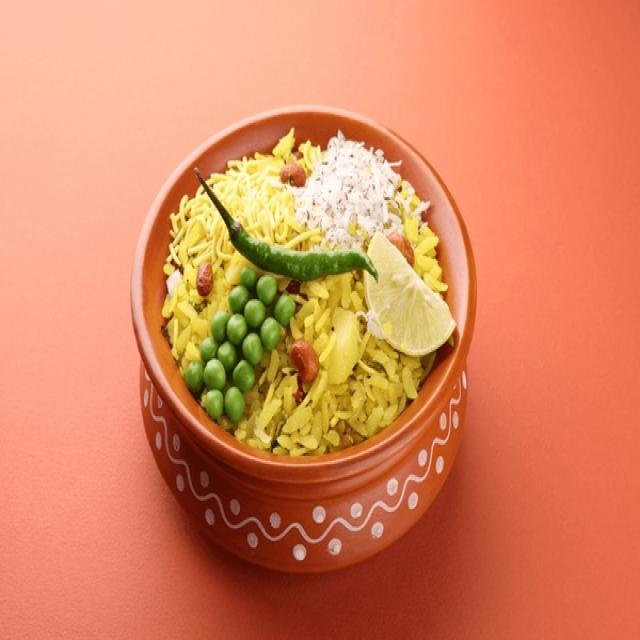UPMA: (161, 130, 452, 451)
